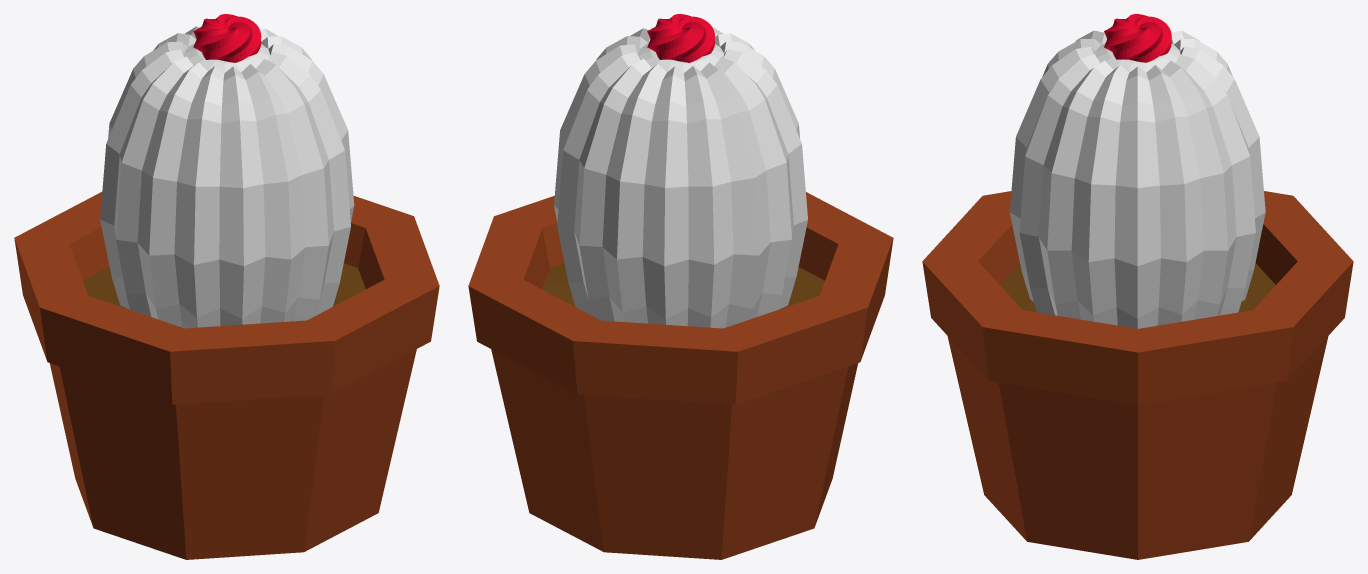
The model's file is cactus in a pot.fbx.
3 views of the same model, side by side, from view 1: azimuth 30°, elevation 25°; view 2: azimuth 150°, elevation 25°; view 3: azimuth 270°, elevation 25° (orthographic).
Parts seen in each view (by area): view 1: pot, cactus, flower fruit thing oon the top; view 2: pot, cactus, flower fruit thing oon the top; view 3: pot, cactus, flower fruit thing oon the top.
Boxes of the visible parts, x1,y1,x2,y2 form: pot: (14,192,439,559); cactus: (100,26,354,328); flower fruit thing oon the top: (193,14,261,62); pot: (468,192,893,559); cactus: (554,26,807,328); flower fruit thing oon the top: (647,14,714,62); pot: (922,191,1353,559); cactus: (1009,26,1265,328); flower fruit thing oon the top: (1104,14,1171,62).
Size of what is drawn, in the model's own units: 111 by 134 by 111.
